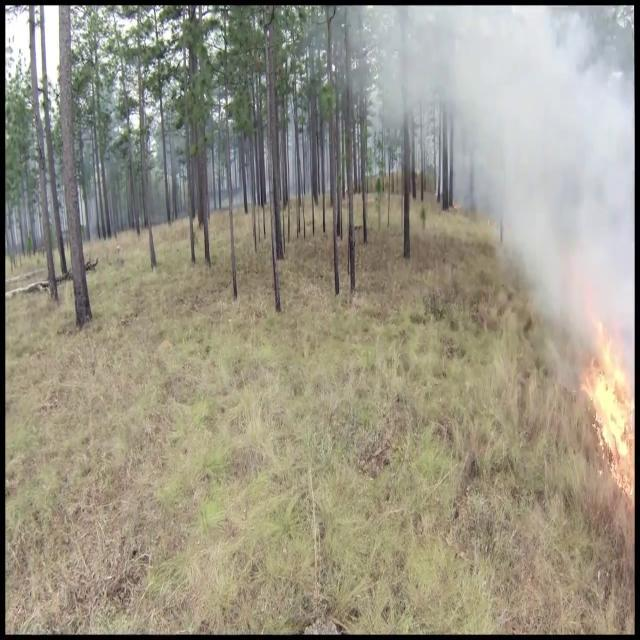Fire: (582, 314, 634, 504)
Smoke: (377, 4, 635, 349), (453, 4, 634, 366)
